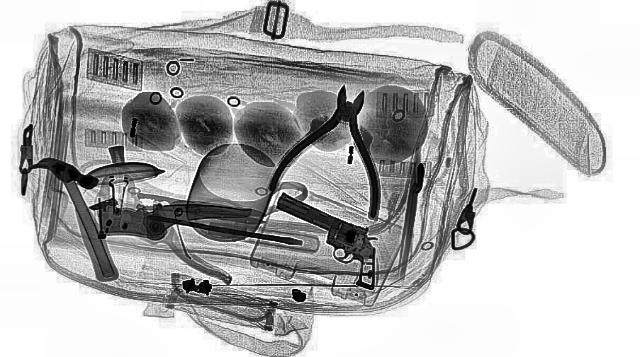Gun: (224, 193, 428, 289)
Pliers: (262, 81, 408, 217)
